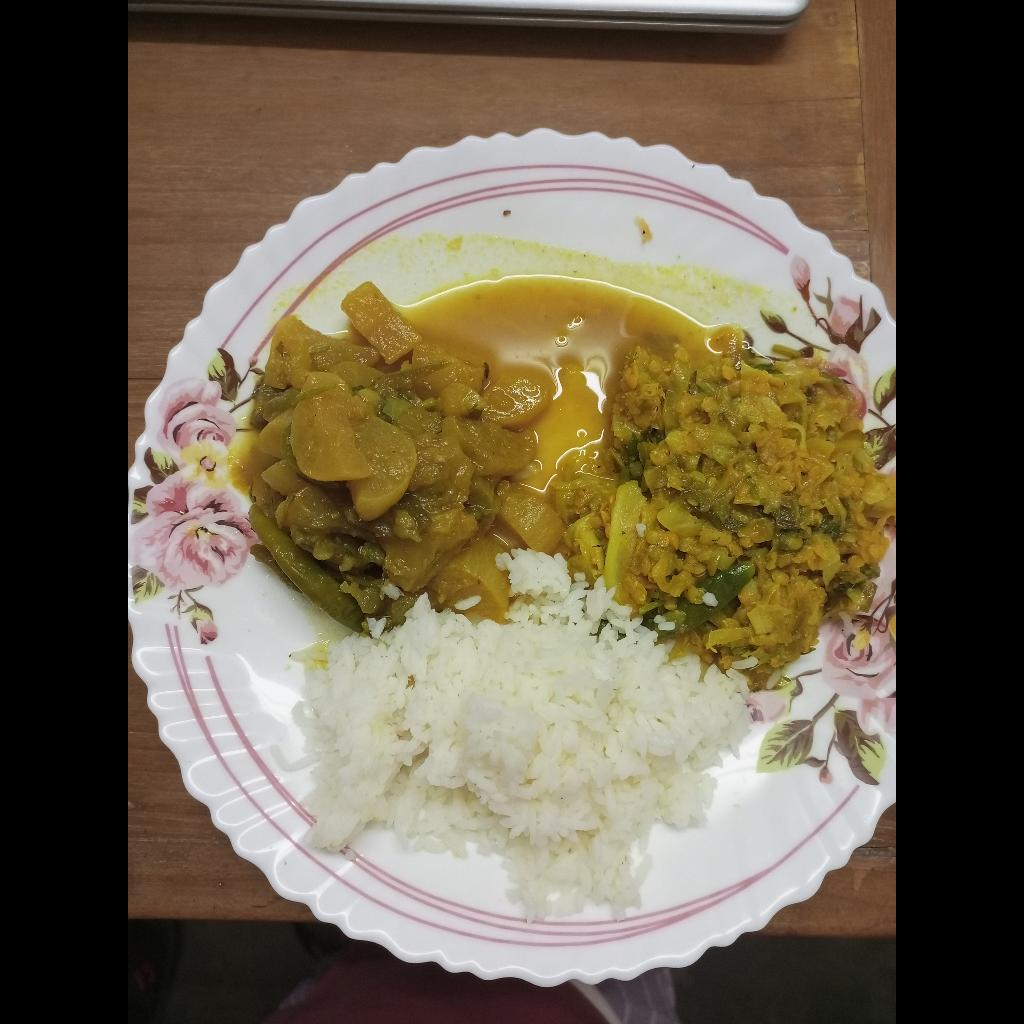daal: (553, 323, 896, 684)
dundol: (228, 279, 702, 616)
rice: (266, 544, 761, 930)
